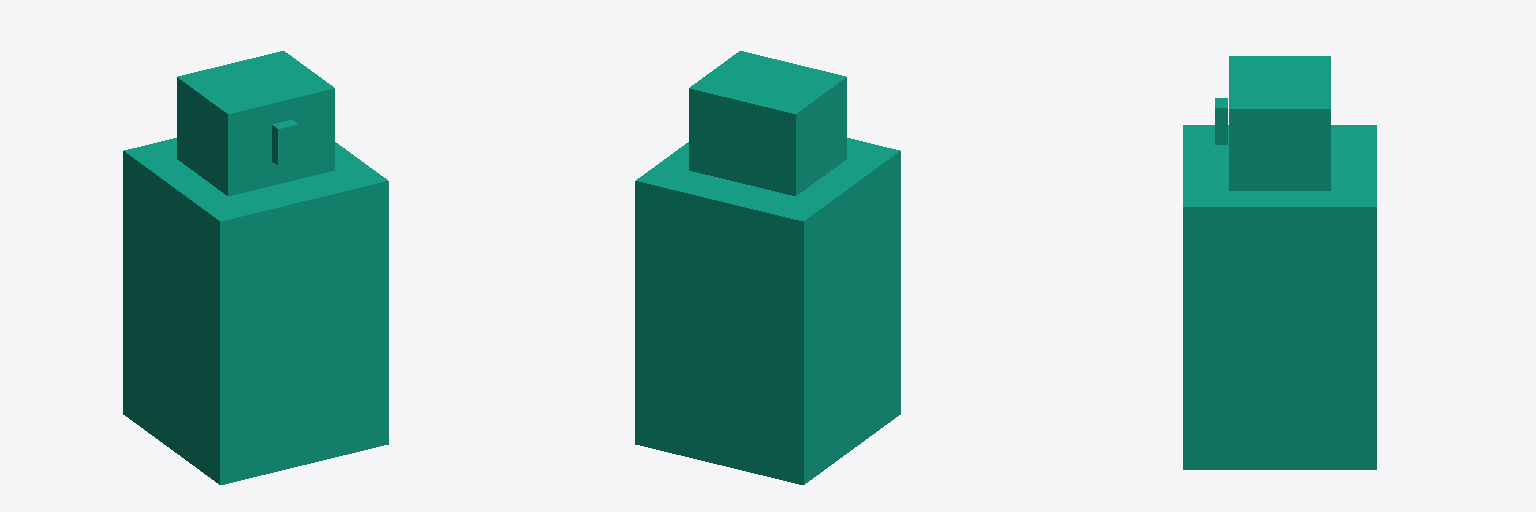
The model's file is body.obj.
The picture shows the model from 3 angles: view 1: azimuth 30°, elevation 25°; view 2: azimuth 150°, elevation 25°; view 3: azimuth 270°, elevation 25°; orthographic projection.
Parts seen in each view (by area): view 1: Box007; view 2: Box007; view 3: Box007.
Part boxes in pixels (bbox=[...]): Box007: bbox=[123, 51, 388, 484]; Box007: bbox=[635, 51, 900, 484]; Box007: bbox=[1183, 56, 1376, 469].
Bounding box in the file's own units: 10 × 19.73 × 10.